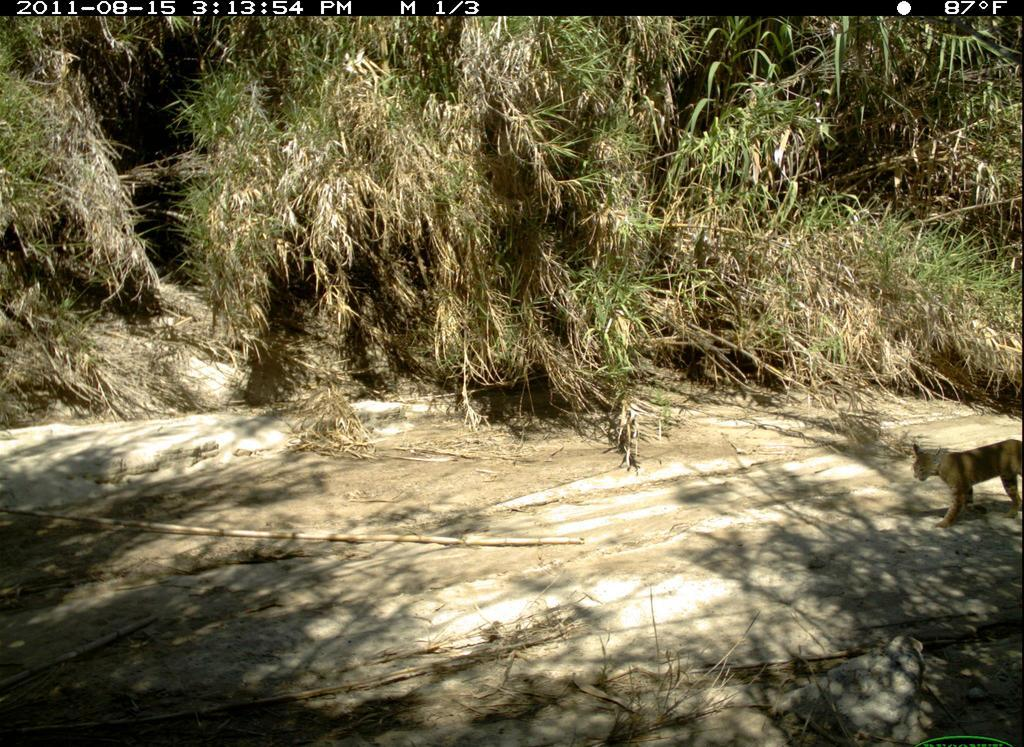bobcat: (899, 429, 1022, 534)
